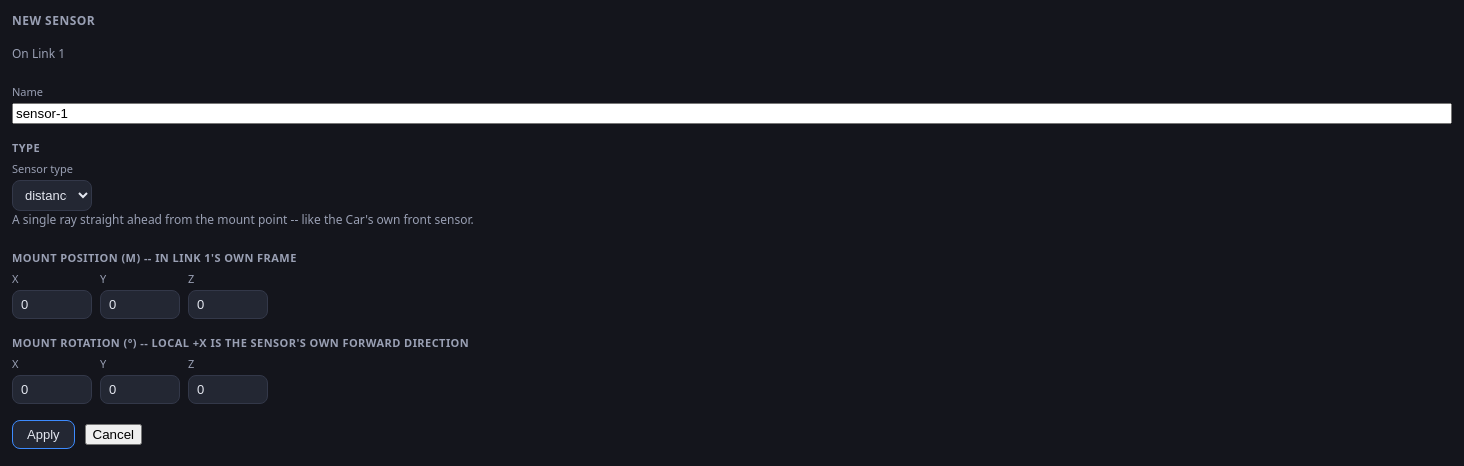
Test case: SensorCreator › switching to encoder hides the transform fields and shows a joint picker instead
Select "encoder" in the dropdown labelled "Sensor type": (52, 196) [12,180,92,211]
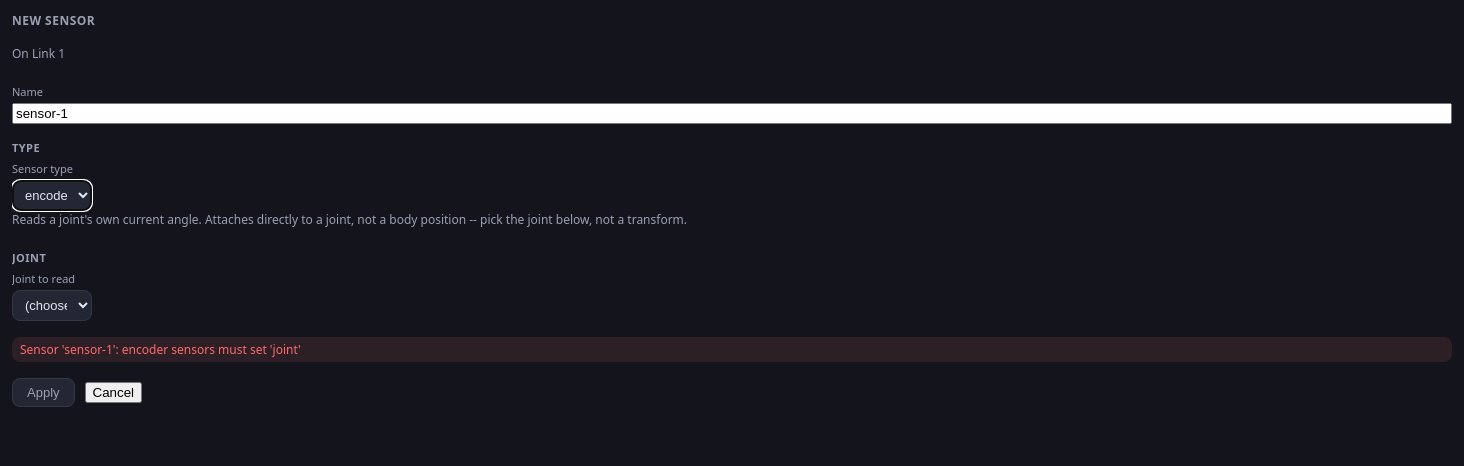
Now the number field labelled "sensor position x" is gone
Now the dropdown named "sensor joint" is shown, box [12,290,92,321]
